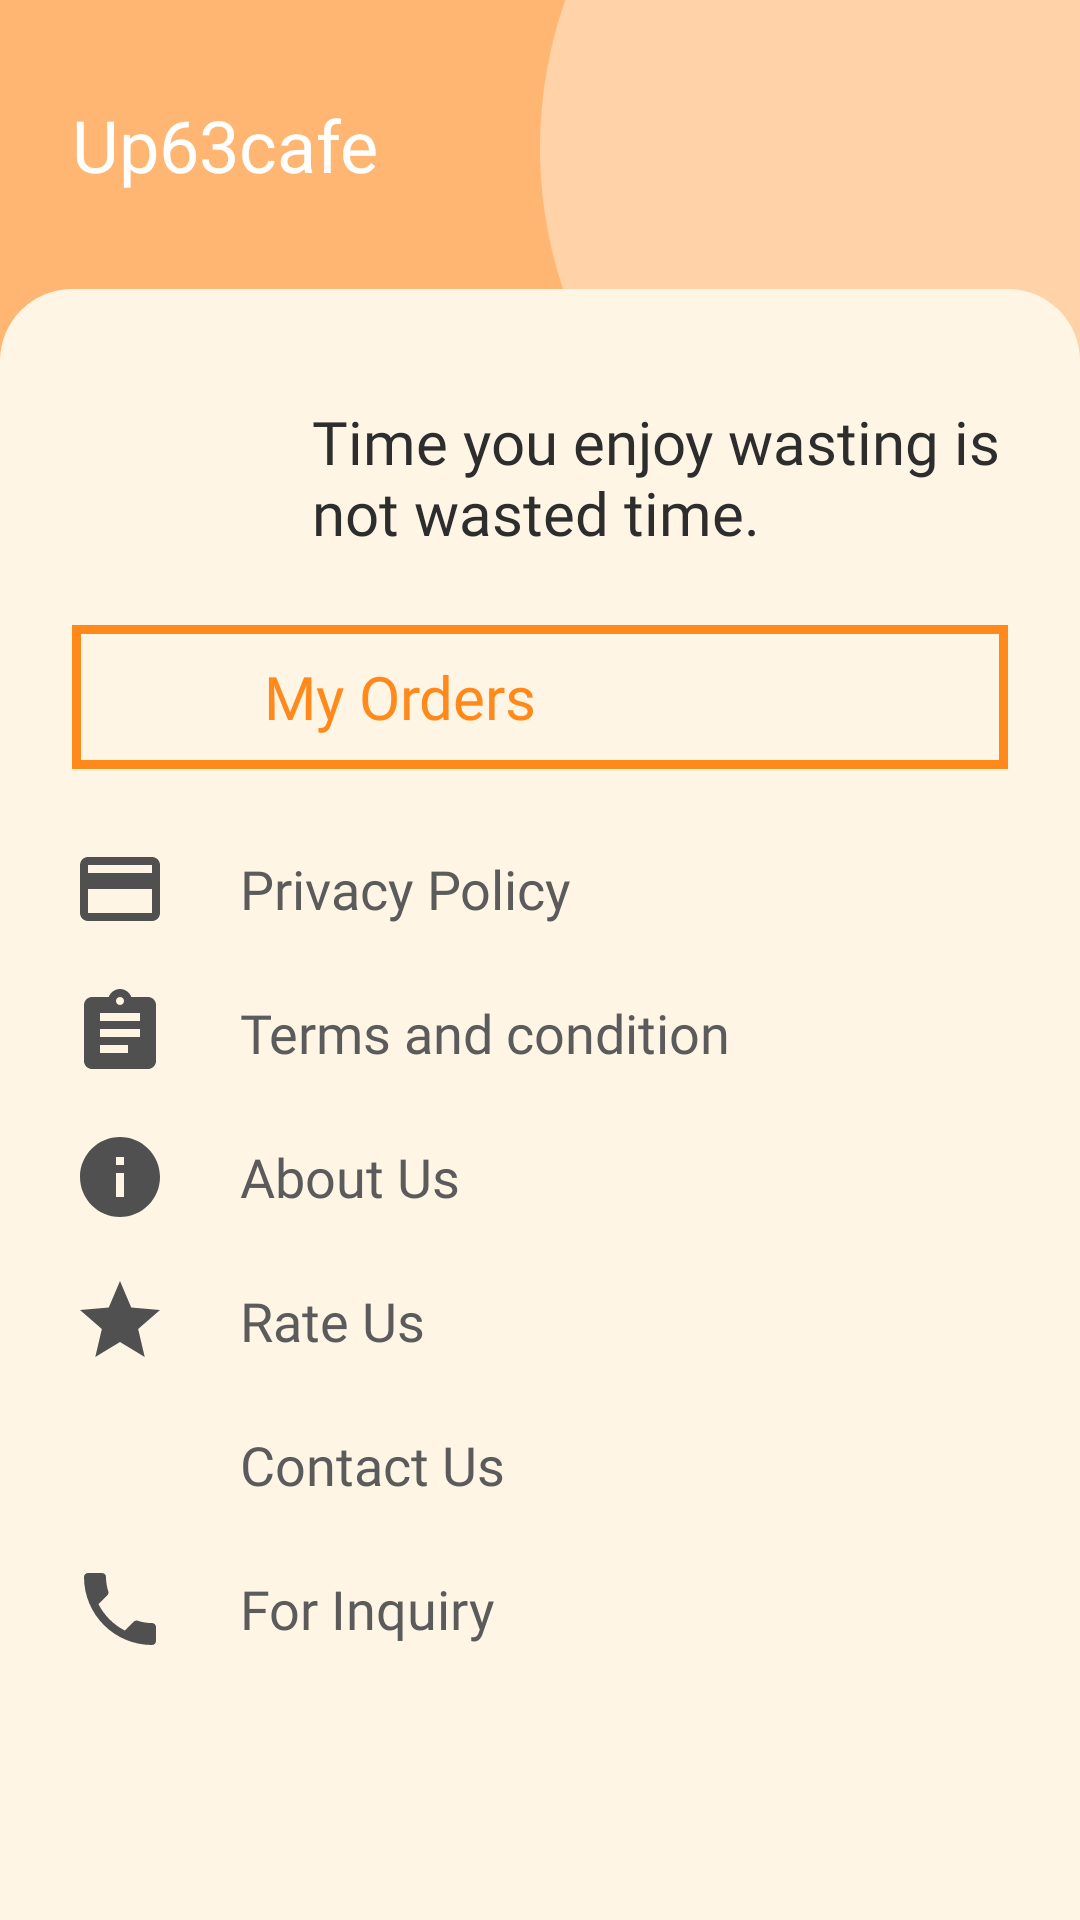

Screen size 1080 x 1920. Icon name, then its box in pixels as (x1, y1, x2, y2):
assignment: (84, 989, 156, 1069)
call: (84, 1573, 156, 1645)
credit card: (80, 857, 160, 921)
info: (80, 1137, 160, 1217)
star: (80, 1281, 160, 1357)
